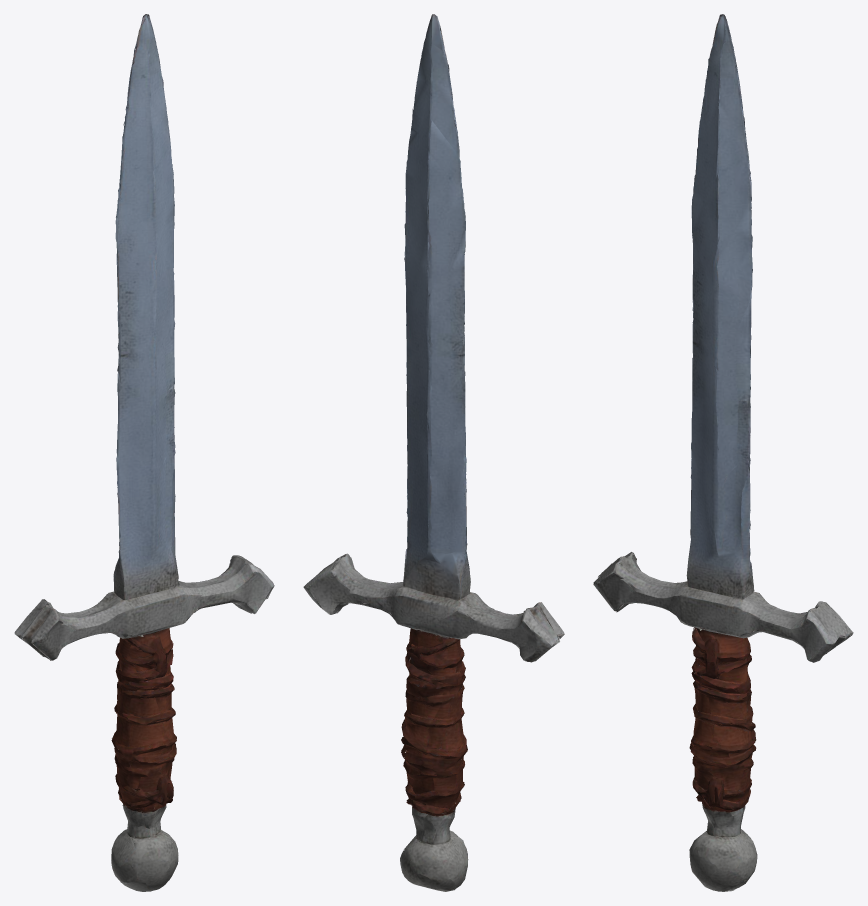
The model's file is тип-кинджал.glb.
3 views of the same model, side by side, from view 1: azimuth 30°, elevation 25°; view 2: azimuth 150°, elevation 25°; view 3: azimuth 330°, elevation 25° (orthographic).
Parts seen in each view (by area): view 1: тип-кинджал; view 2: тип-кинджал; view 3: тип-кинджал.
Boxes of the visible parts, x1,y1,x2,y2 form: тип-кинджал: [14, 14, 274, 891]; тип-кинджал: [303, 14, 564, 891]; тип-кинджал: [593, 14, 853, 891].
Bounding box in the file's own units: 0.1247 × 0.4201 × 0.0289.
1 material, 1 textured.
